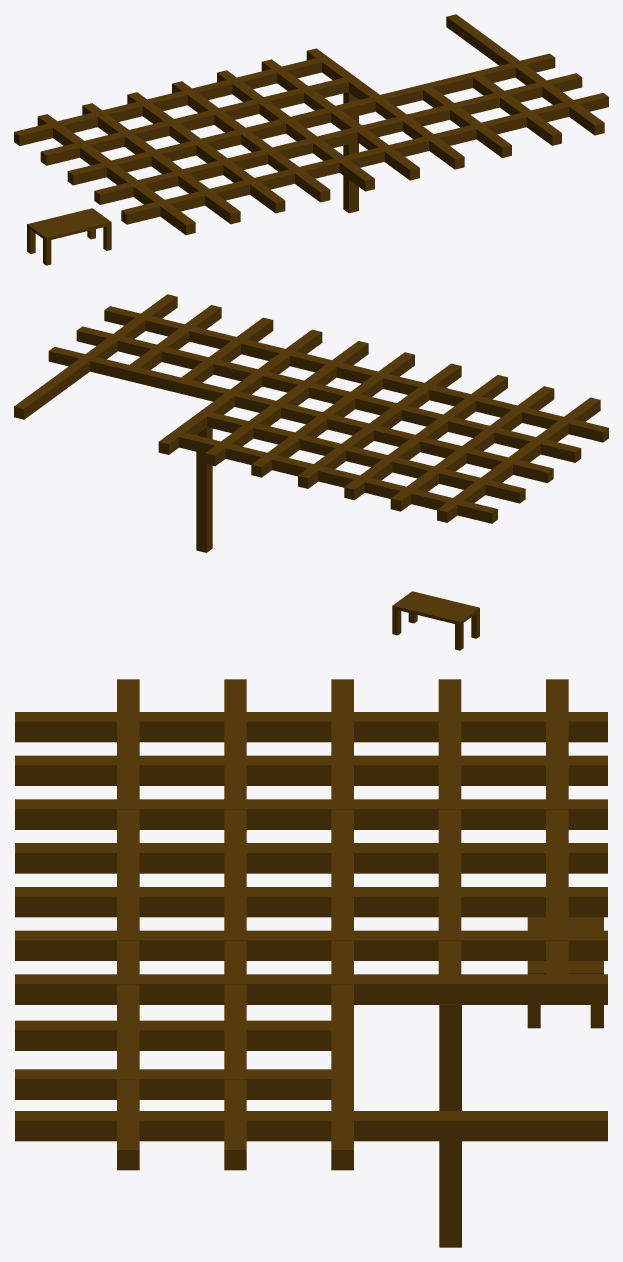
Rendered from Wood.fbx.
3 views of the same model, one above another, from view 1: azimuth 30°, elevation 25°; view 2: azimuth 150°, elevation 25°; view 3: azimuth 270°, elevation 25° (orthographic). The views are drawn at different scales.
Visible parts, largest first — view 1: pCube142, pCube12; view 2: pCube142, pCube12; view 3: pCube142, pCube12.
Part boxes in pixels (<box>): pCube142: <box>14,14,608,235</box>; pCube12: <box>27,208,111,265</box>; pCube142: <box>14,294,608,552</box>; pCube12: <box>392,591,479,650</box>; pCube142: <box>15,679,607,1247</box>; pCube12: <box>527,917,603,1028</box>.
Bounding box in the file's own units: 1889 × 493 × 1006.
